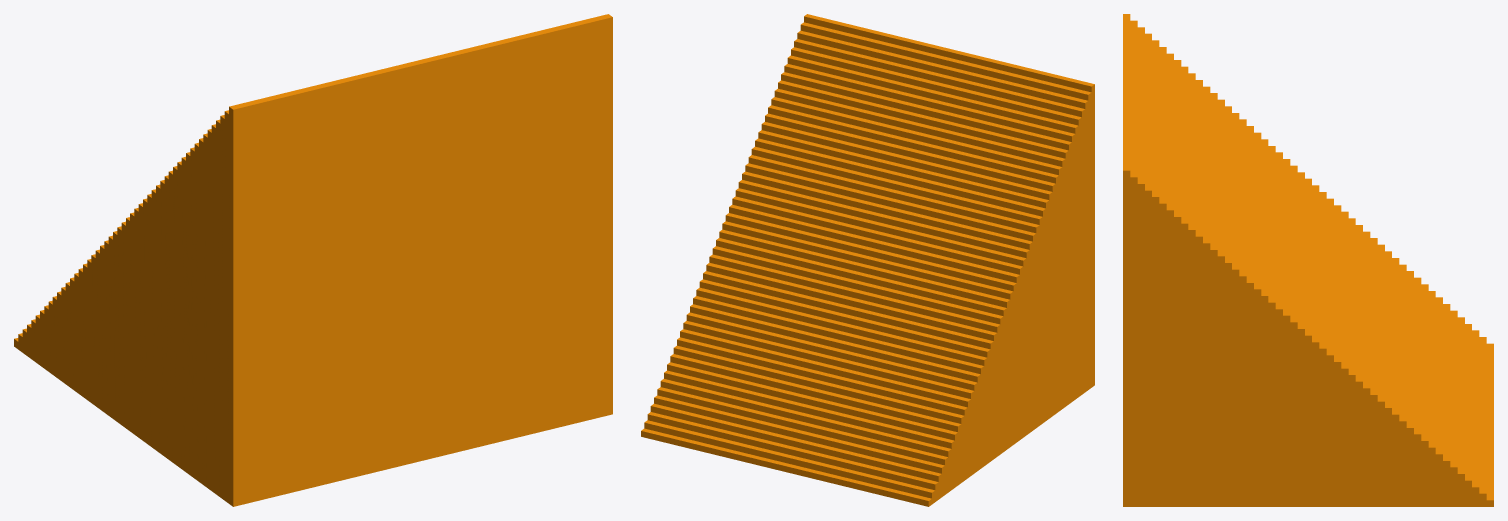
File: Stairs.fbx
The picture shows the model from 3 angles, left to right: view 1: azimuth 30°, elevation 25°; view 2: azimuth 150°, elevation 25°; view 3: azimuth 270°, elevation 25°; orthographic projection. The views are drawn at different scales.
Visible parts, largest first — view 1: Stairs__3_; view 2: Stairs__3_; view 3: Stairs__3_.
Boxes of the visible parts, x1,y1,x2,y2 form: Stairs__3_: [14, 14, 612, 506]; Stairs__3_: [641, 14, 1094, 506]; Stairs__3_: [1123, 14, 1493, 506].
Bounding box in the file's own units: 100 × 100 × 100.
